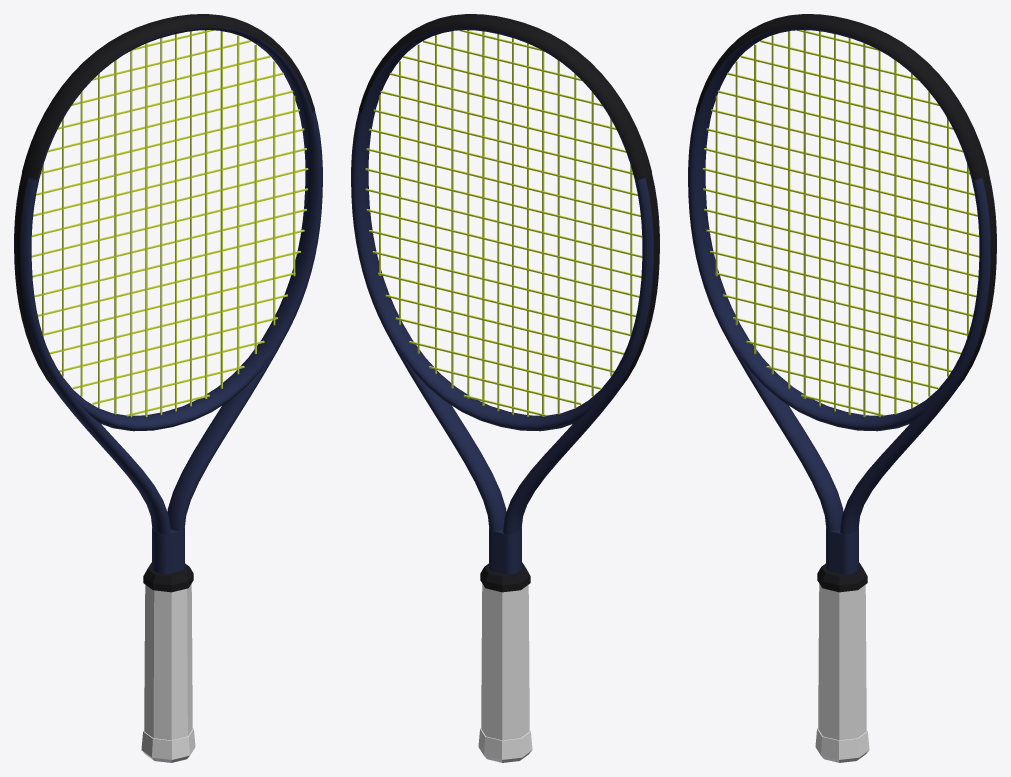
File: head-speed-junior-25.glb
The picture shows the model from 3 angles, left to right: view 1: azimuth 30°, elevation 25°; view 2: azimuth 150°, elevation 25°; view 3: azimuth 330°, elevation 25°; orthographic projection.
Visible parts, largest first — view 1: frame, strings_mains, strings_crosses, grip, bumper, grommets, butt_cap, collar; view 2: frame, strings_mains, strings_crosses, grip, bumper, grommets, butt_cap, collar; view 3: frame, strings_mains, strings_crosses, grip, bumper, grommets, butt_cap, collar.
Boxes of the visible parts, bbox=[...] form: frame: bbox=[14, 27, 322, 574]; strings_mains: bbox=[42, 30, 295, 417]; strings_crosses: bbox=[31, 30, 308, 416]; grip: bbox=[144, 584, 192, 740]; bumper: bbox=[22, 14, 314, 180]; grommets: bbox=[14, 173, 52, 383]; butt_cap: bbox=[141, 728, 195, 762]; collar: bbox=[143, 562, 193, 592]; frame: bbox=[351, 27, 659, 574]; strings_mains: bbox=[379, 30, 632, 416]; strings_crosses: bbox=[365, 30, 642, 416]; grip: bbox=[481, 584, 529, 740]; bumper: bbox=[359, 14, 651, 180]; grommets: bbox=[621, 173, 659, 383]; butt_cap: bbox=[478, 728, 532, 762]; collar: bbox=[480, 562, 530, 592]; frame: bbox=[688, 27, 996, 574]; strings_mains: bbox=[715, 30, 968, 417]; strings_crosses: bbox=[702, 30, 979, 416]; grip: bbox=[818, 584, 866, 740]; bumper: bbox=[696, 14, 988, 180]; grommets: bbox=[958, 173, 996, 383]; butt_cap: bbox=[815, 728, 869, 762]; collar: bbox=[817, 562, 867, 592].
Size of the model in its own units: 0.2757 by 0.6353 by 0.0396.
